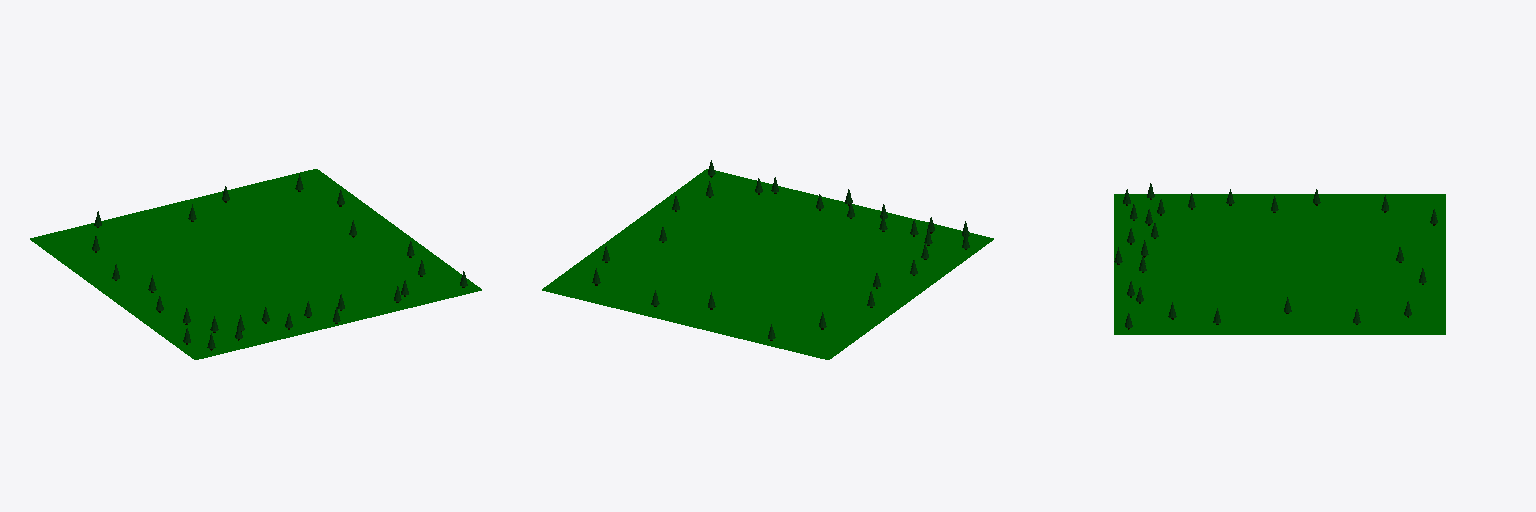
3 views of the same model, side by side, from view 1: azimuth 30°, elevation 25°; view 2: azimuth 150°, elevation 25°; view 3: azimuth 270°, elevation 25° (orthographic).
Visible parts, largest first — view 1: Plane_Plane_Material.002; view 2: Plane_Plane_Material.002; view 3: Plane_Plane_Material.002.
Part boxes in pixels (left/top/right/bottom): Plane_Plane_Material.002: left=30, top=169, right=481, bottom=359; Plane_Plane_Material.002: left=542, top=160, right=993, bottom=359; Plane_Plane_Material.002: left=1114, top=183, right=1445, bottom=334.
Size of the model in its own units: 30 by 1.69 by 30.